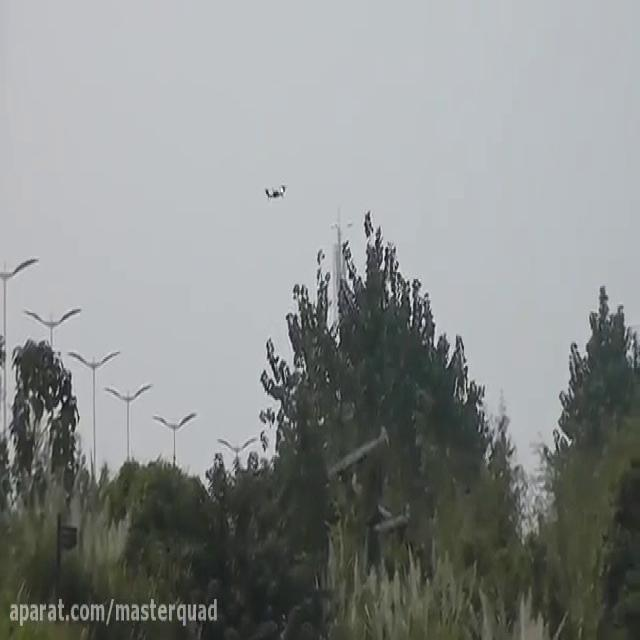drone: (260, 174, 288, 204)
